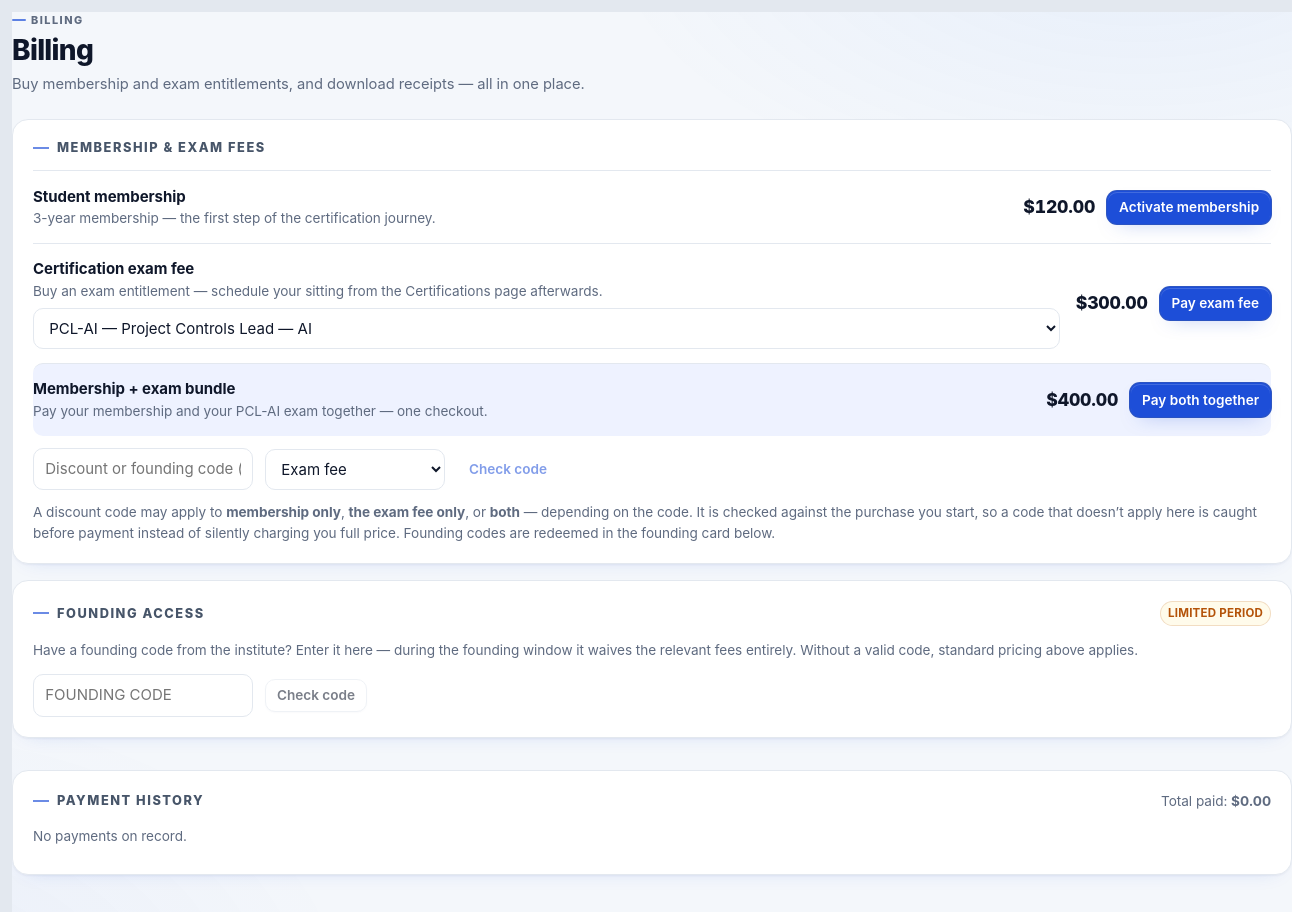
Test: Billing (in-portal purchasing) › blocks checkout and shows the message when the entered code is invalid for the product
This screenshot has width=1292, height=912.
Type "EXPIRED10" into the field labelled "Discount or founding code" at (143, 469), box [33,448,253,490]
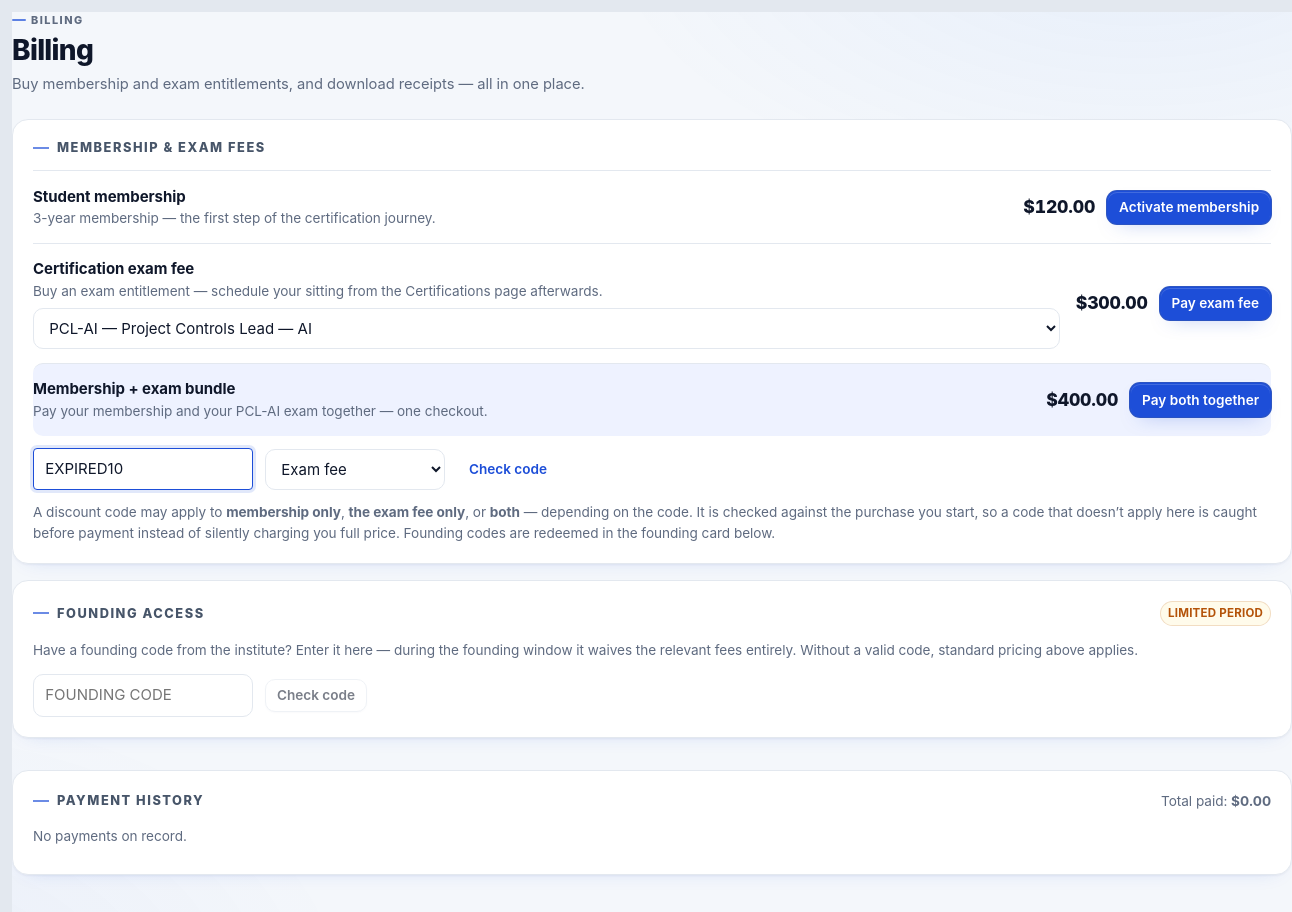
Click the button "Activate membership" at (1189, 207), box [1107,191,1271,224]
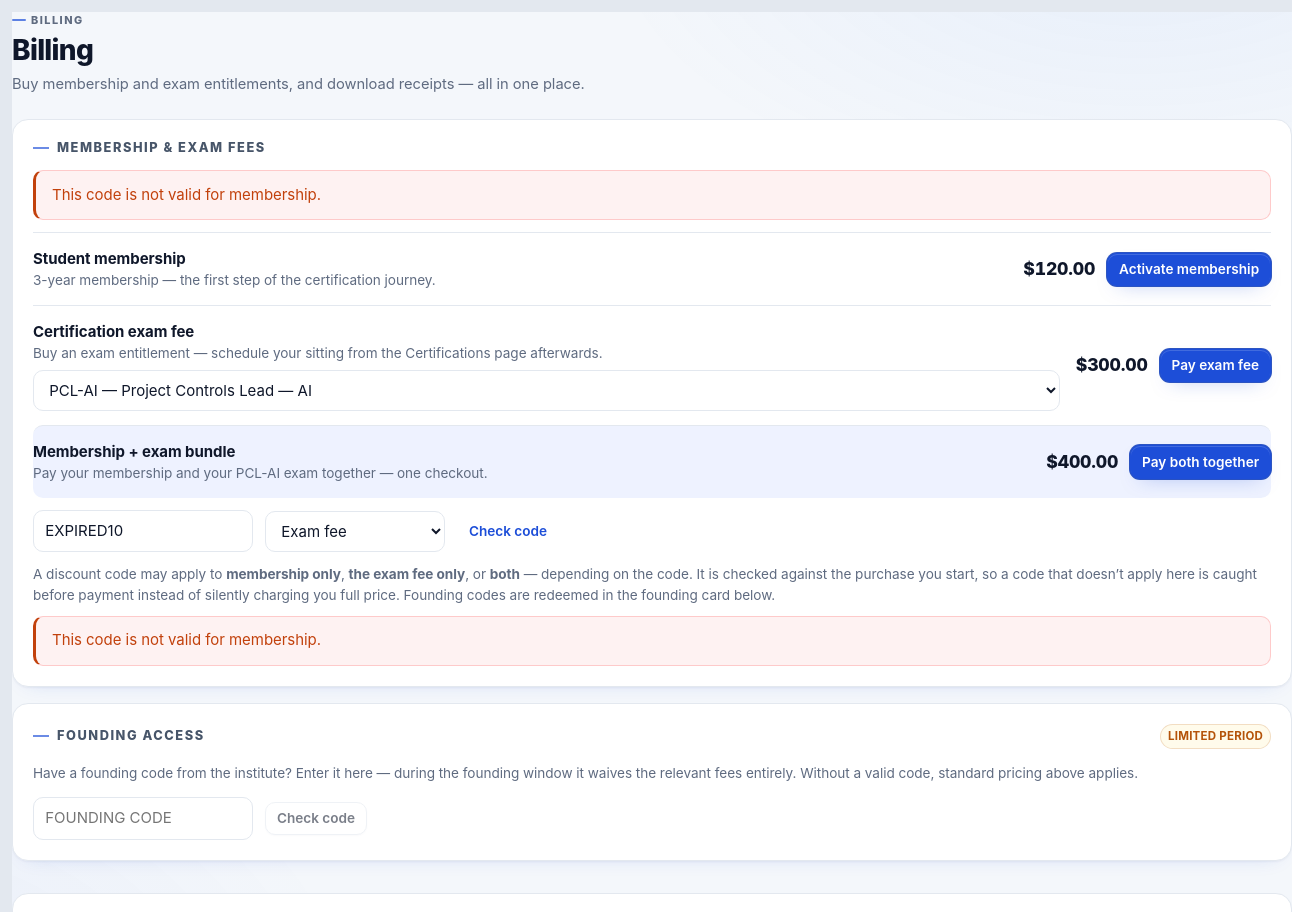
Check: the 1st message "This code is not valid for membership." is shown, box [33,170,1271,220]
